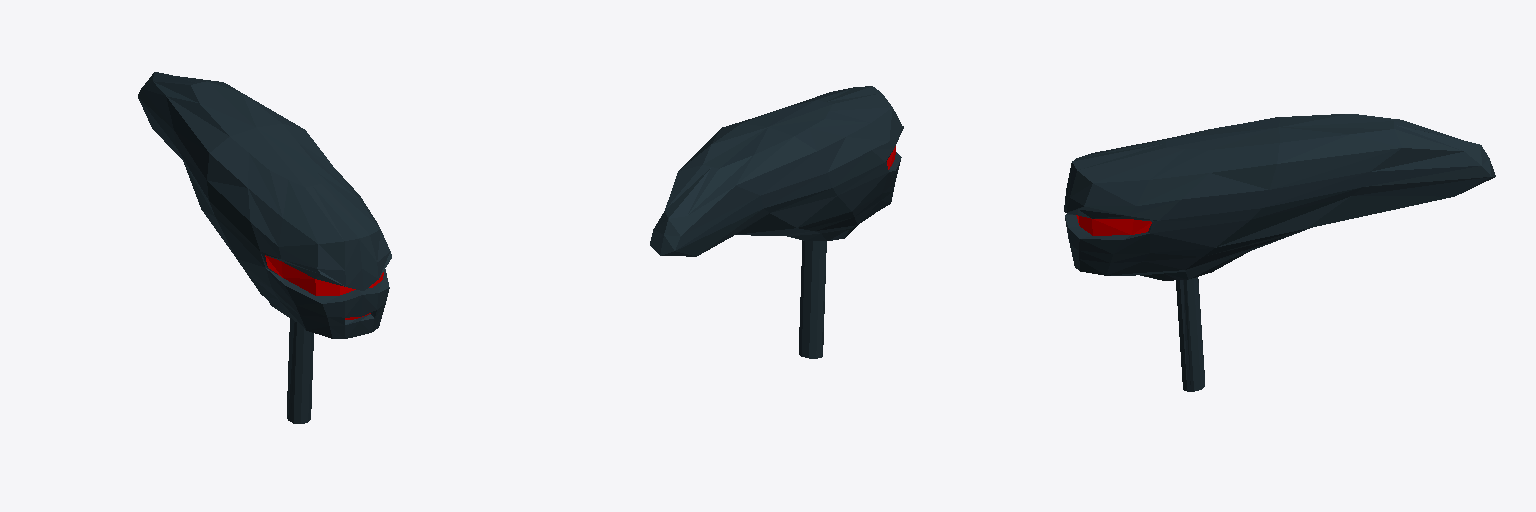
The model's file is robot_head_v2.obj.
The picture shows the model from 3 angles: view 1: azimuth 30°, elevation 25°; view 2: azimuth 150°, elevation 25°; view 3: azimuth 270°, elevation 25°; orthographic projection.
Parts seen in each view (by area): view 1: pCylinder1; view 2: pCylinder1; view 3: pCylinder1.
Boxes of the visible parts, <box> form: pCylinder1: <box>138,72,391,423</box>; pCylinder1: <box>650,86,903,358</box>; pCylinder1: <box>1064,114,1495,391</box>.
Bounding box in the file's own units: 1.52 × 3.4 × 5.04.